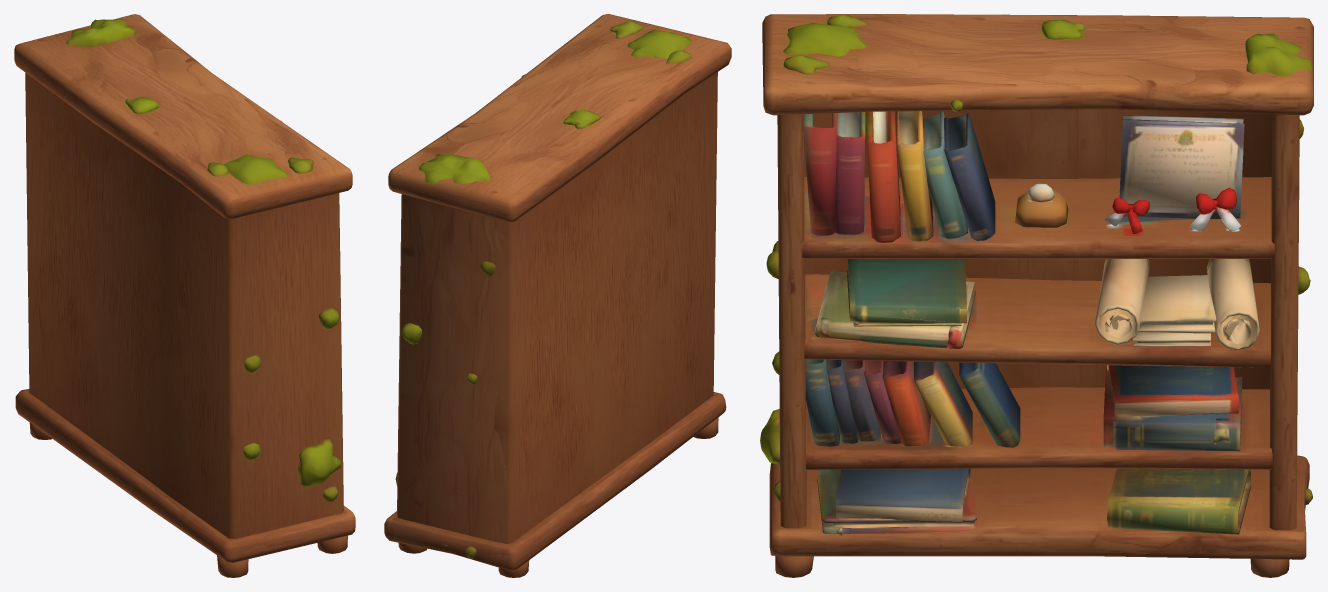
Rendered from bookshelf.glb.
3 renders of one model, left to right at view 1: azimuth 30°, elevation 25°; view 2: azimuth 150°, elevation 25°; view 3: azimuth 270°, elevation 25°, orthographic. The views are drawn at different scales.
Parts seen in each view (by area): view 1: tripo_node_e0b161cc-5d75-4e70-82e7-cba78ff14d7a; view 2: tripo_node_e0b161cc-5d75-4e70-82e7-cba78ff14d7a; view 3: tripo_node_e0b161cc-5d75-4e70-82e7-cba78ff14d7a.
Boxes of the visible parts, left/top/right/bottom form: tripo_node_e0b161cc-5d75-4e70-82e7-cba78ff14d7a: left=14, top=14, right=355, bottom=577; tripo_node_e0b161cc-5d75-4e70-82e7-cba78ff14d7a: left=384, top=14, right=731, bottom=577; tripo_node_e0b161cc-5d75-4e70-82e7-cba78ff14d7a: left=760, top=14, right=1313, bottom=577.
Bounding box in the file's own units: 0.3926 × 0.998 × 0.998.
Materials: 1 (1 with a texture image).
